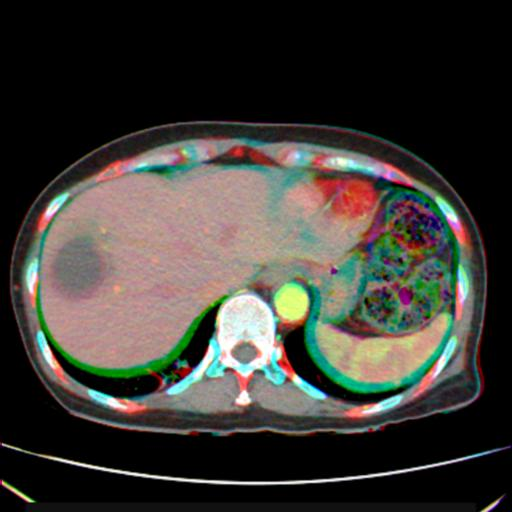Abscess: (53, 236, 103, 297)
